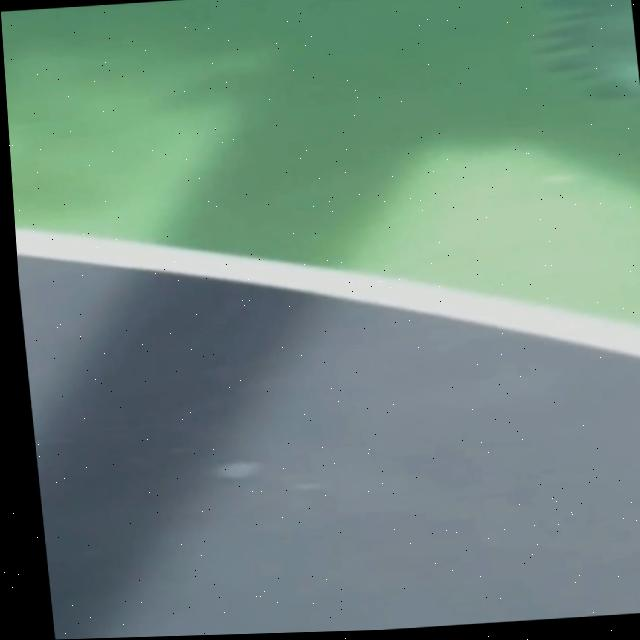right: (15, 229, 640, 359)
